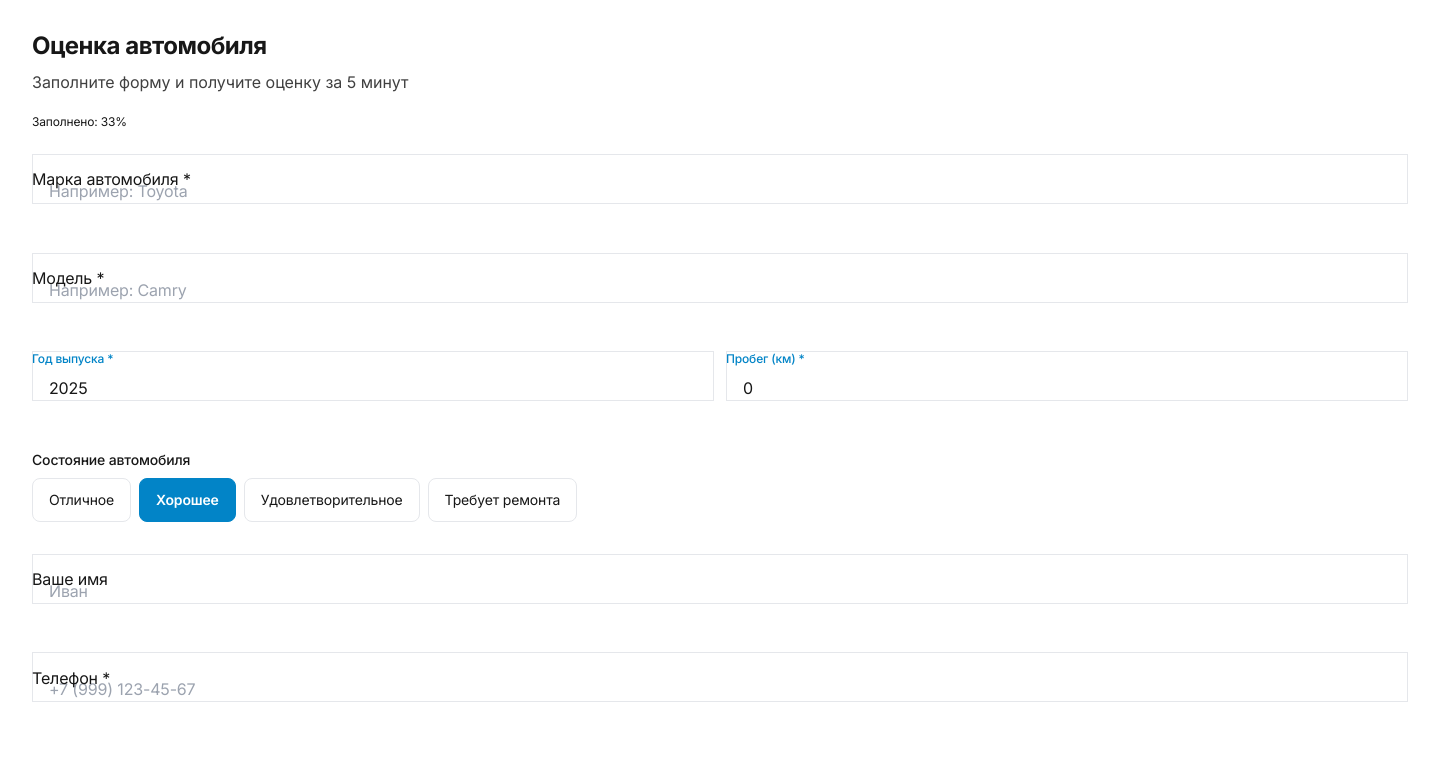
Test: CarEvaluationForm Component › should show brand suggestions when typing
In the field named "марка": (720, 179) [32,154,1408,204], type "Toy"
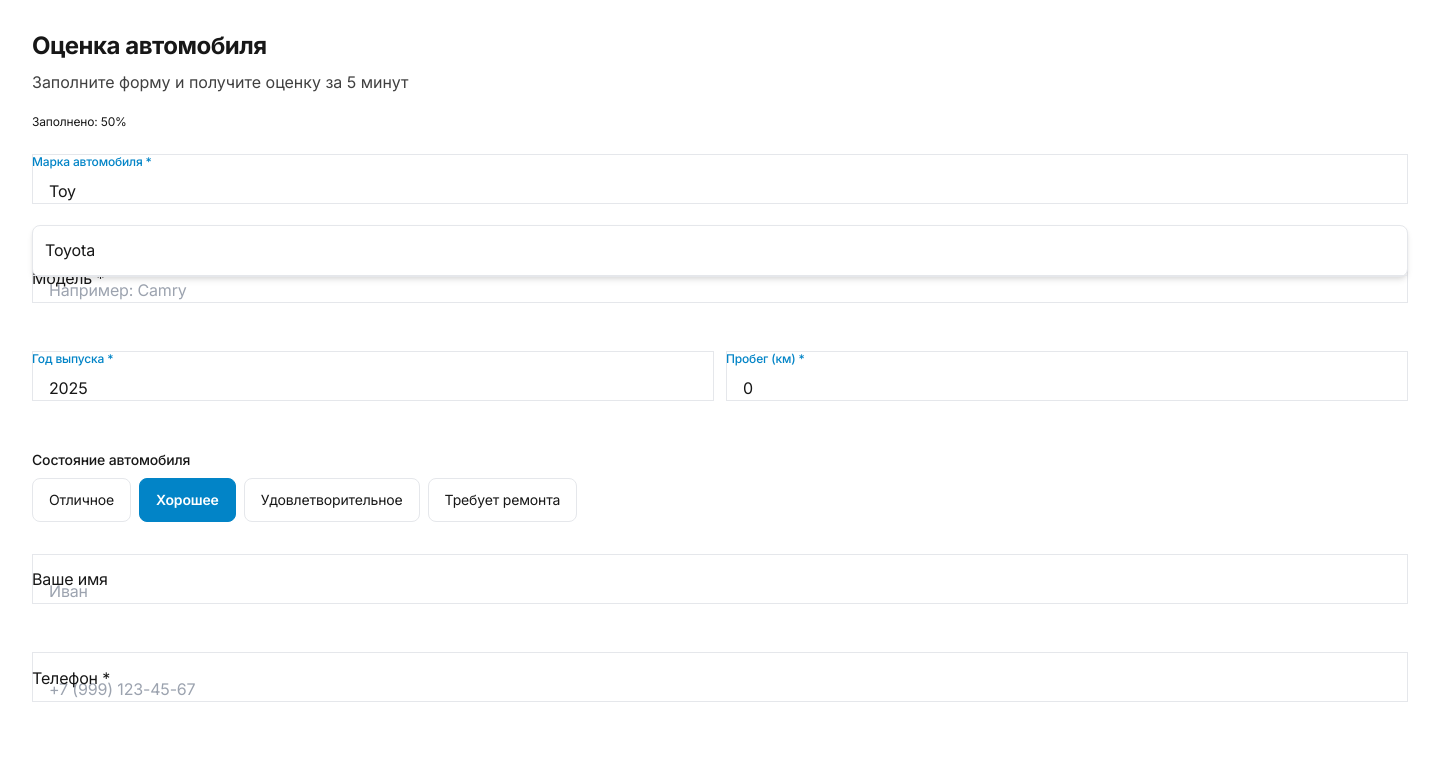
Check: the text "Toyota" is shown, box [45,240,95,260]
